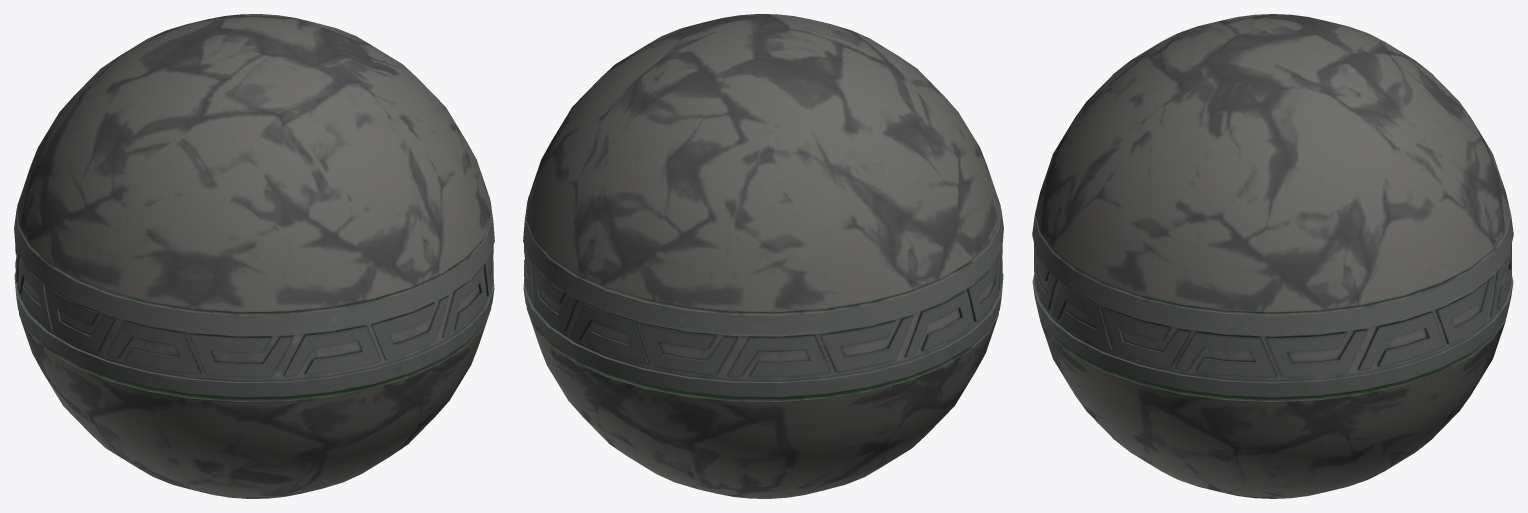
File: bolaRocaCrash.obj
The picture shows the model from 3 angles, left to right: view 1: azimuth 30°, elevation 25°; view 2: azimuth 150°, elevation 25°; view 3: azimuth 270°, elevation 25°; orthographic projection.
Visible parts, largest first — view 1: sphere_paint_Material.001; view 2: sphere_paint_Material.001; view 3: sphere_paint_Material.001.
Boxes of the visible parts, <box> form: sphere_paint_Material.001: <box>14,14,494,498</box>; sphere_paint_Material.001: <box>523,14,1003,498</box>; sphere_paint_Material.001: <box>1032,14,1513,498</box>.
Bounding box in the file's own units: 1.67 × 1.68 × 1.67.
